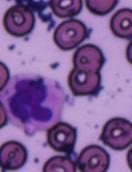N: (0, 72, 65, 132)
